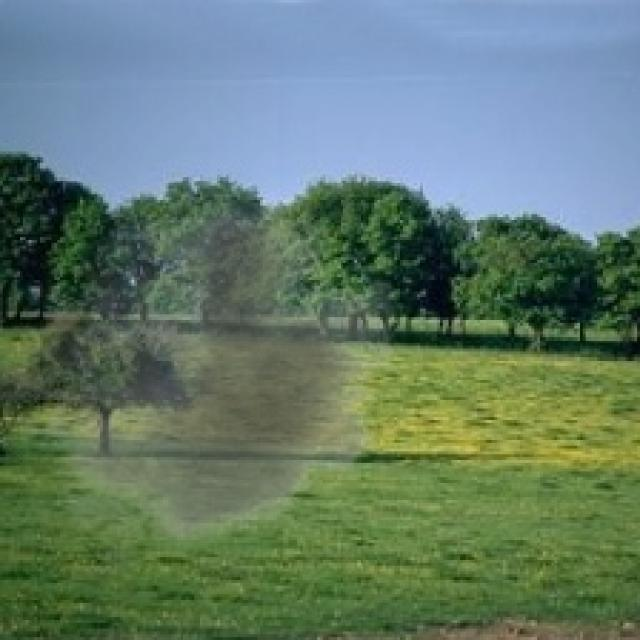smoke: (0, 183, 417, 563)
